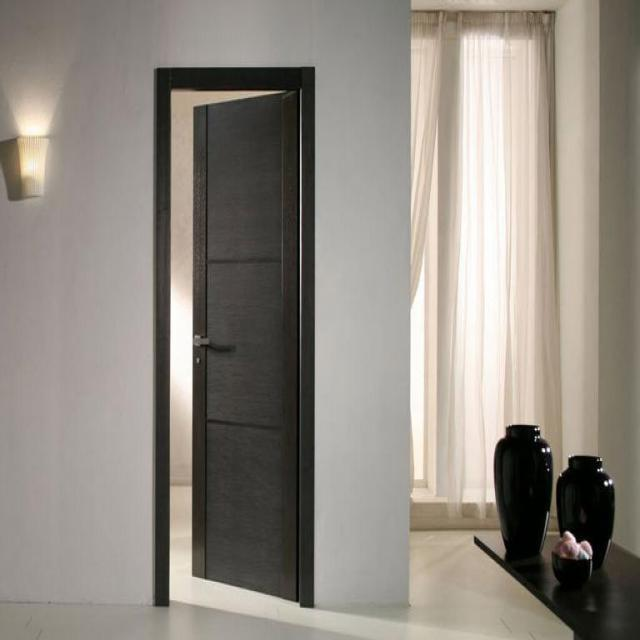semi-open: (143, 50, 322, 616)
